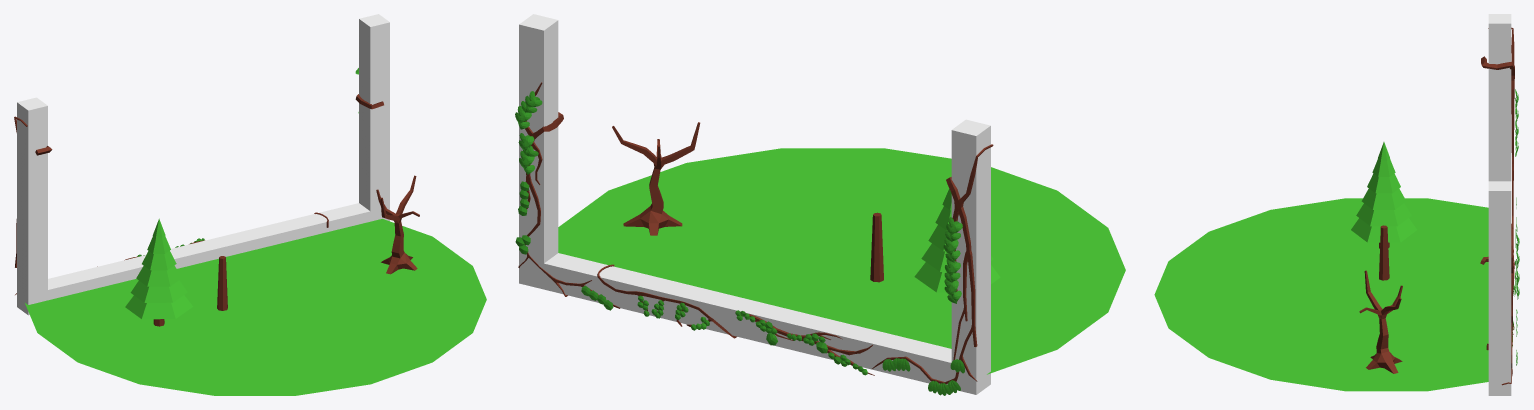
Rendered from workspace.glb.
The picture shows the model from 3 angles, left to right: view 1: azimuth 30°, elevation 25°; view 2: azimuth 150°, elevation 25°; view 3: azimuth 270°, elevation 25°; orthographic projection. The views are drawn at different scales.
Parts seen in each view (by area): view 1: Ground, Walls, TreePt1, Leafless, Bark, Vines; view 2: Ground, Walls, Foliage, Vines, Leafless, TreePt1, Bark; view 3: Ground, Walls, TreePt1, Leafless, Vines, Foliage, Bark.
Boxes of the visible parts, bbox=[...] form: Ground: bbox=[25, 219, 486, 395]; Walls: bbox=[17, 14, 389, 315]; TreePt1: bbox=[125, 218, 192, 319]; Leafless: bbox=[376, 175, 419, 274]; Bark: bbox=[217, 256, 227, 310]; Vines: bbox=[14, 94, 383, 294]; Ground: bbox=[558, 148, 1125, 374]; Walls: bbox=[519, 14, 990, 394]; Foliage: bbox=[515, 91, 964, 395]; Vines: bbox=[518, 82, 993, 384]; Leafless: bbox=[612, 122, 700, 235]; TreePt1: bbox=[914, 188, 1000, 292]; Bark: bbox=[870, 212, 883, 282]; Ground: bbox=[1154, 198, 1488, 391]; Walls: bbox=[1488, 14, 1511, 395]; TreePt1: bbox=[1351, 142, 1416, 242]; Leafless: bbox=[1359, 270, 1402, 373]; Vines: bbox=[1480, 27, 1514, 385]; Foliage: bbox=[1512, 89, 1519, 365]; Bark: bbox=[1379, 225, 1389, 280].
Bounding box in the file's own units: 20.19 × 10.22 × 16.12.
